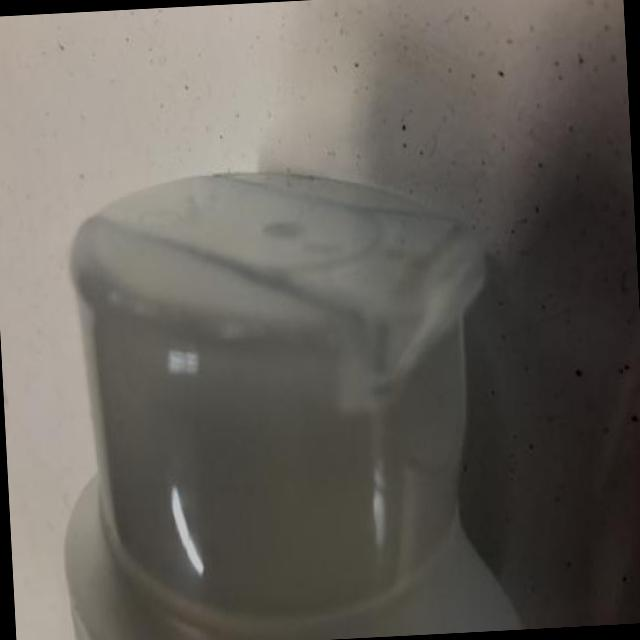Recycle: (54, 153, 524, 640)
